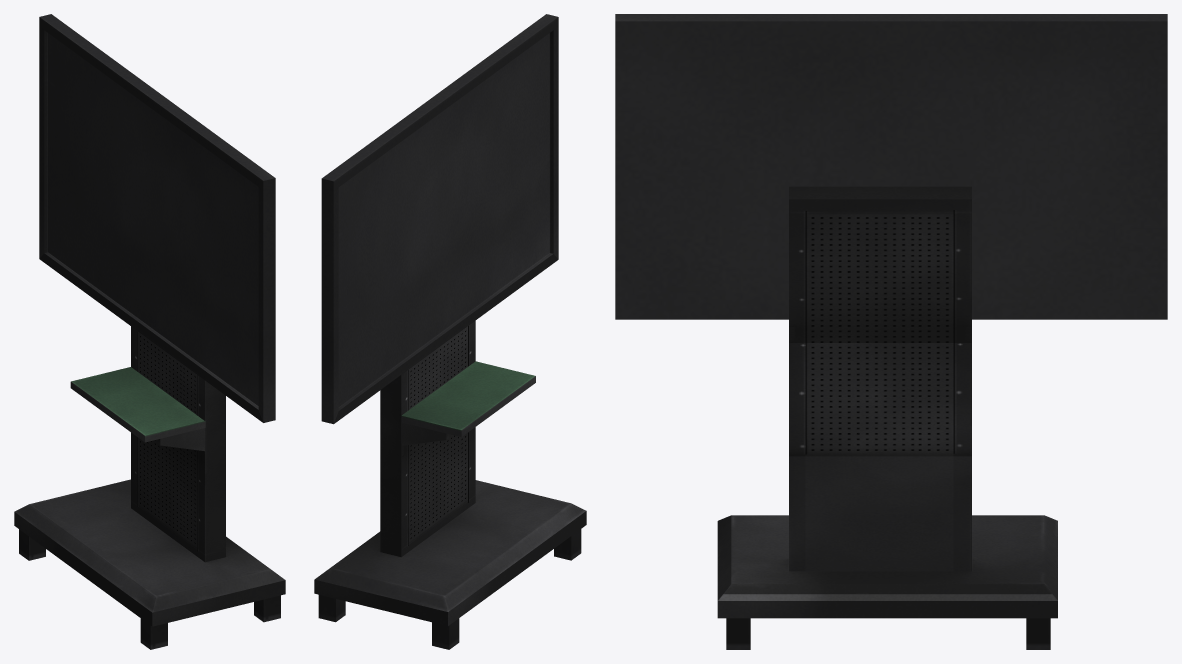
Rendered from TV_Mols.fbx.
3 renders of one model, left to right at view 1: azimuth 30°, elevation 25°; view 2: azimuth 150°, elevation 25°; view 3: azimuth 270°, elevation 25°, orthographic. The views are drawn at different scales.
Parts seen in each view (by area): view 1: TV; view 2: TV; view 3: TV.
Boxes of the visible parts, left/top/right/bottom form: TV: left=14, top=14, right=285, bottom=649; TV: left=314, top=14, right=586, bottom=649; TV: left=615, top=14, right=1167, bottom=649.
Size of the model in its own units: 51.91 by 181 by 151.
